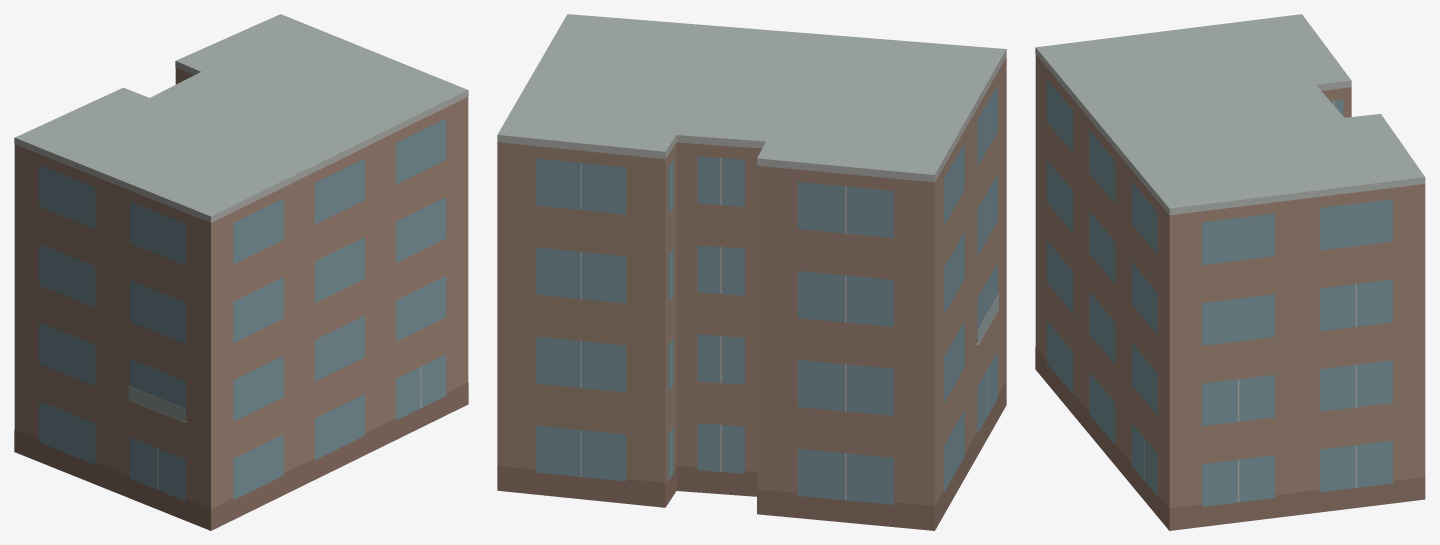
File: survey-upis-32905040.glb
3 views of the same model, side by side, from view 1: azimuth 30°, elevation 25°; view 2: azimuth 150°, elevation 25°; view 3: azimuth 270°, elevation 25° (orthographic). The views are drawn at different scales.
Visible parts, largest first — view 1: survey-upis-32905040.tmp; view 2: survey-upis-32905040.tmp; view 3: survey-upis-32905040.tmp.
Part boxes in pixels (x1,y1,x2,y2): survey-upis-32905040.tmp: [14, 14, 468, 530]; survey-upis-32905040.tmp: [497, 14, 1006, 530]; survey-upis-32905040.tmp: [1035, 14, 1425, 530].
Size of the model in its own units: 15.3 by 11.8 by 12.95.
